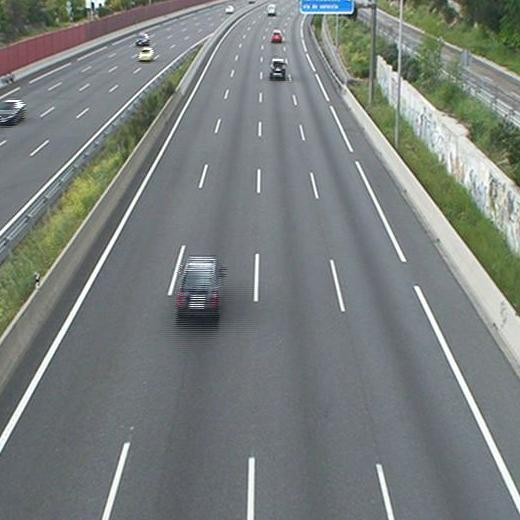car: (176, 256, 223, 324), (269, 57, 287, 81), (271, 30, 282, 43)
